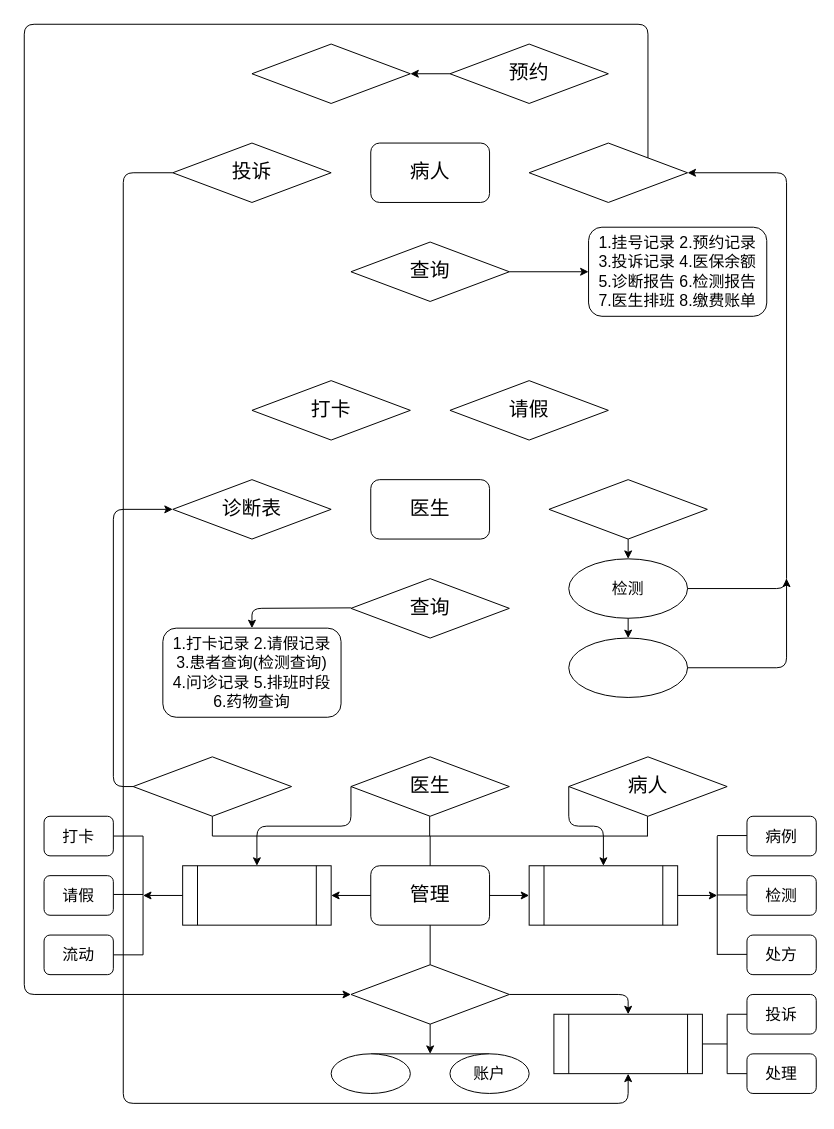
Image size: 834x1129. Some labels were removed from this diagram. The centre of each missing label's shape, as x and y in pixels:
事务管理: point (603, 895)
人员管理: point (256, 895)
医院: point (429, 994)
开方: point (628, 667)
挂号: point (330, 73)
缴费: point (608, 172)
药物: point (212, 786)
行政管理: point (627, 1043)
账单: point (370, 1073)
问诊: point (627, 509)
